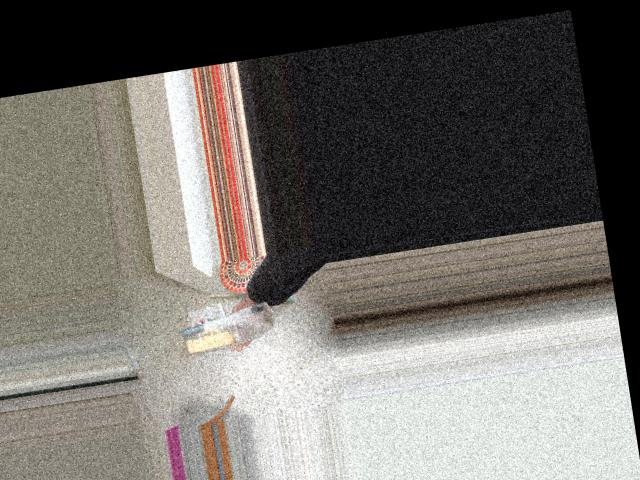cheese: (178, 302, 274, 357)
